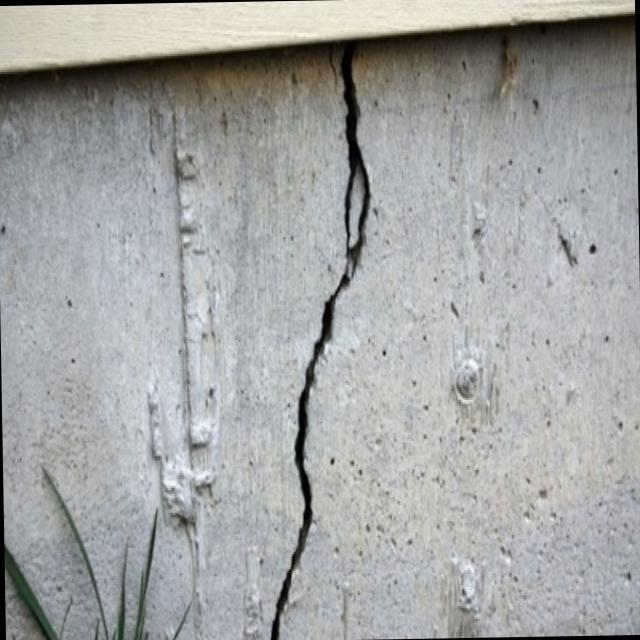crack: (260, 41, 381, 639)
